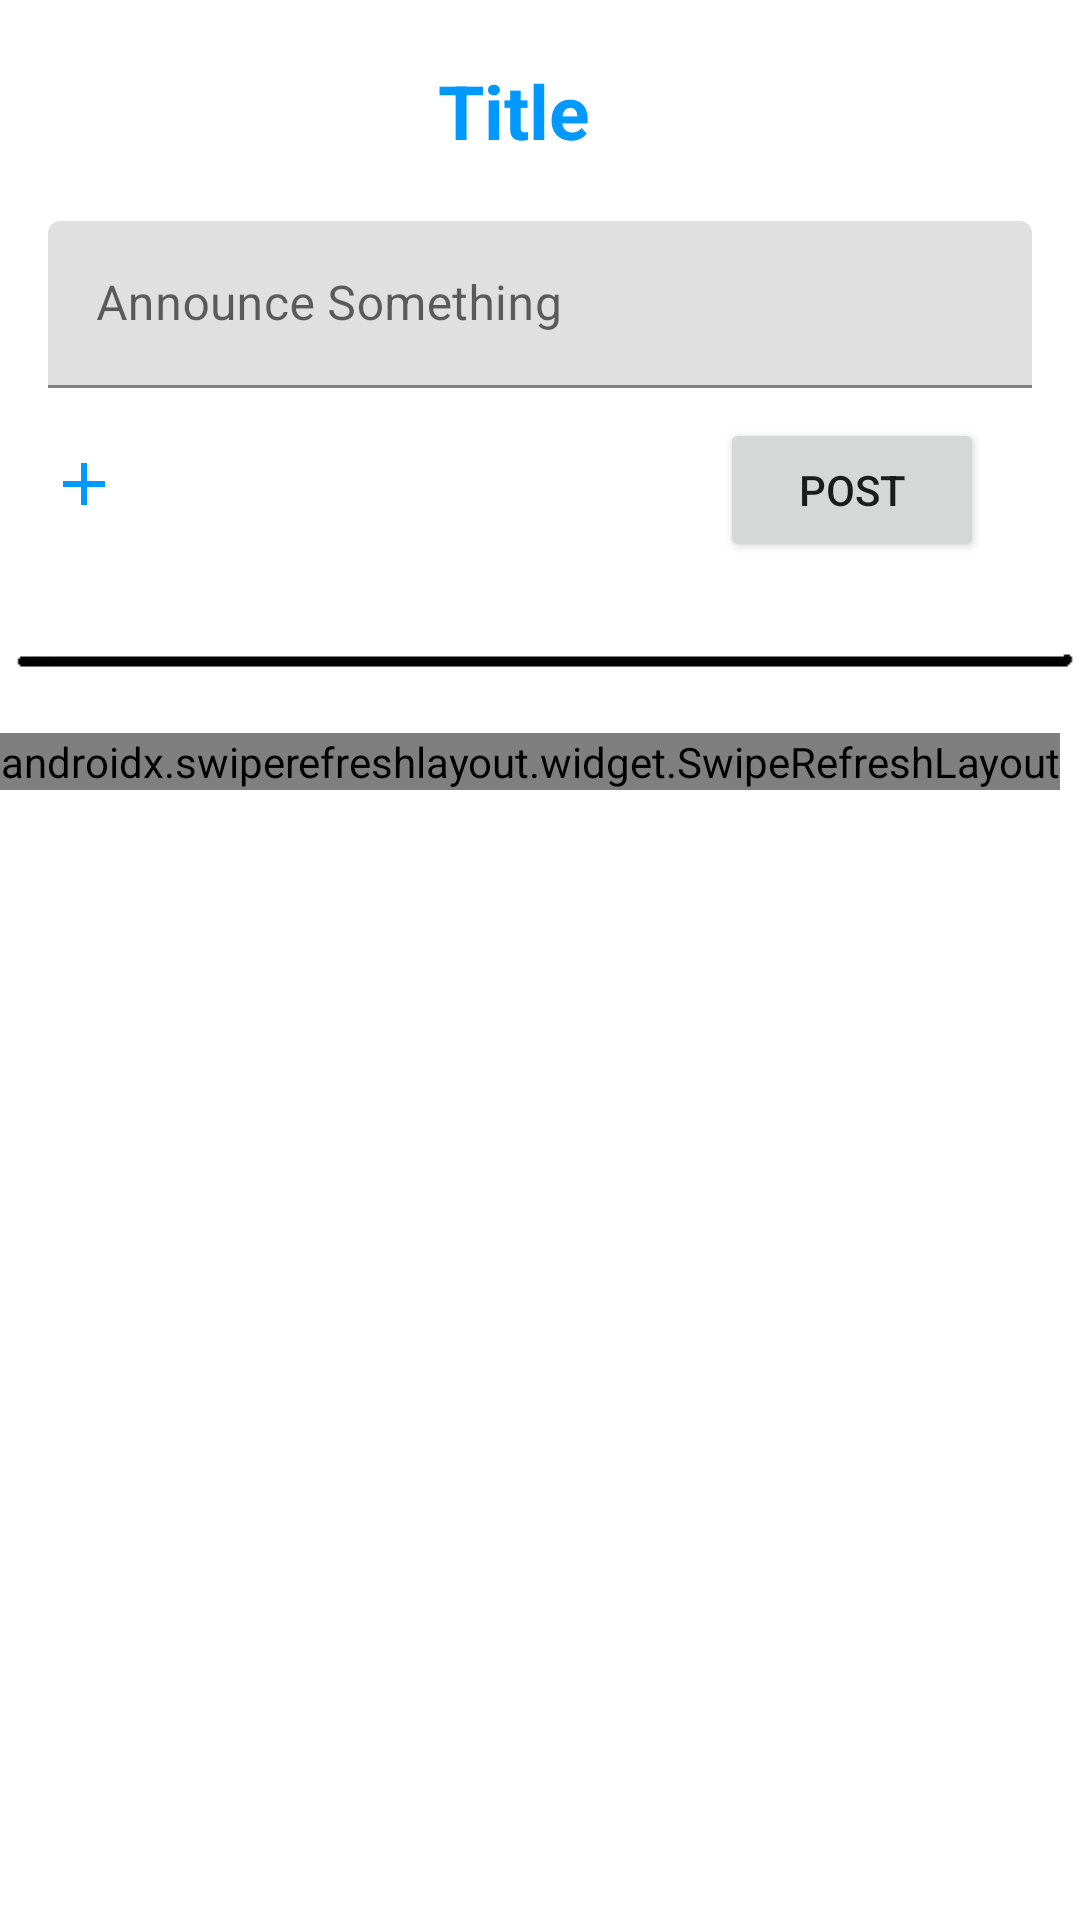

Where to tap for icons on this 1080×1920 app screen, as (x=x, y=y):
add file: (x=84, y=484)
